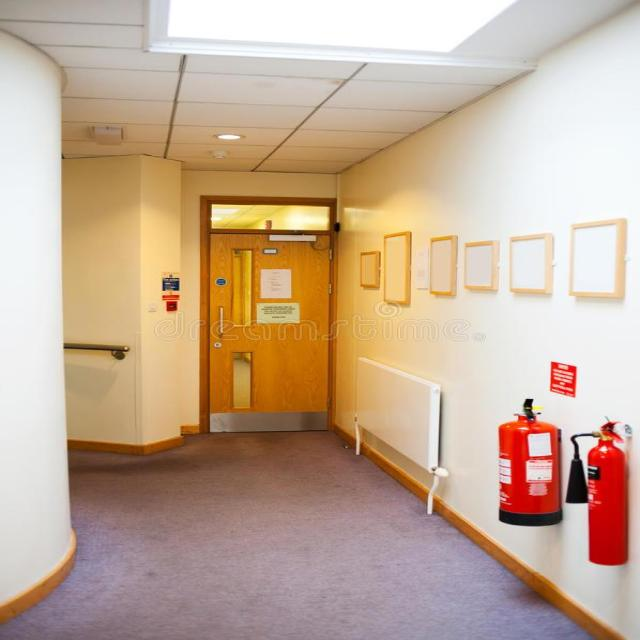fire_extinguisher: (561, 415, 639, 568), (489, 396, 569, 529)
